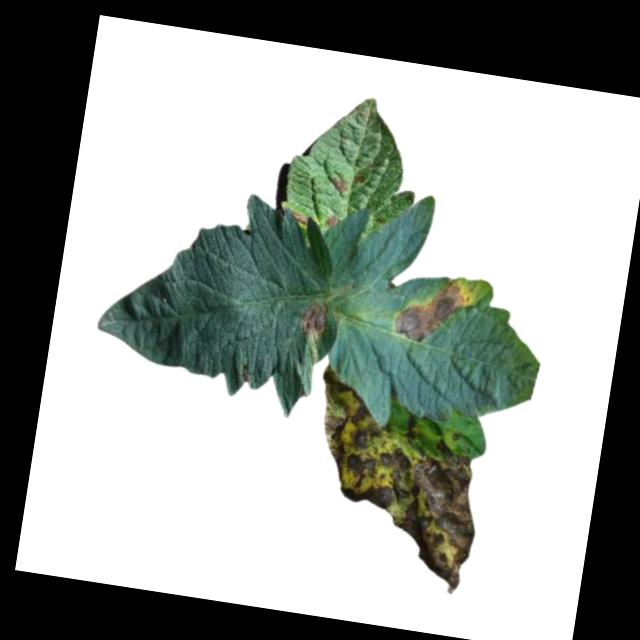Early_blight: (294, 370, 495, 591), (389, 272, 470, 350), (299, 299, 329, 337), (328, 175, 350, 196), (285, 206, 308, 224), (324, 212, 339, 227)
